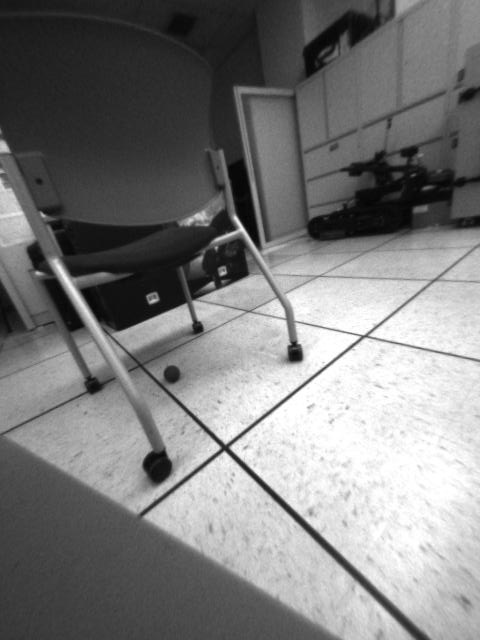dogtoy: (159, 358, 187, 390)
